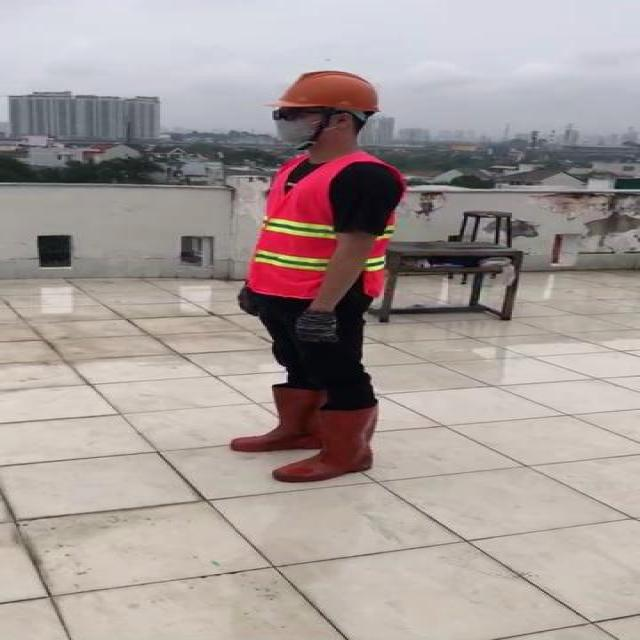boots: (272, 401, 380, 487), (228, 382, 314, 453)
face_mask: (270, 104, 318, 144)
glasses: (266, 106, 316, 126)
hand_glove: (288, 310, 341, 347)
head_helmet: (276, 65, 386, 114)
person: (219, 62, 421, 482)
vest: (249, 151, 405, 300)
